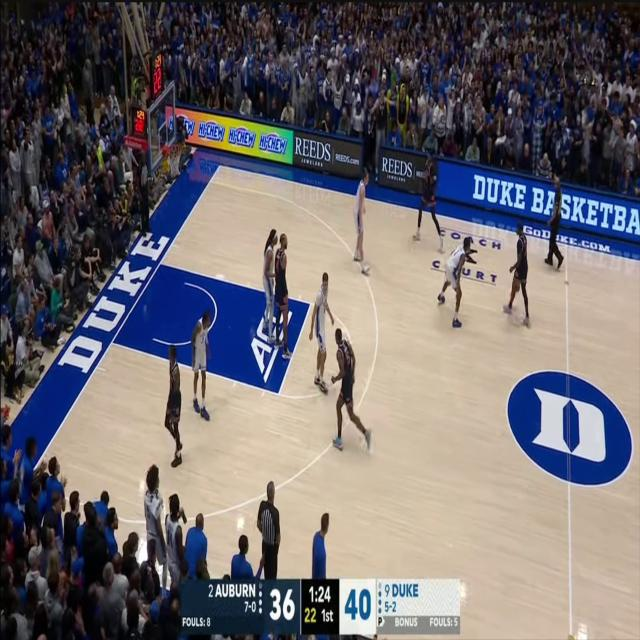basketball: (505, 263, 530, 315)
